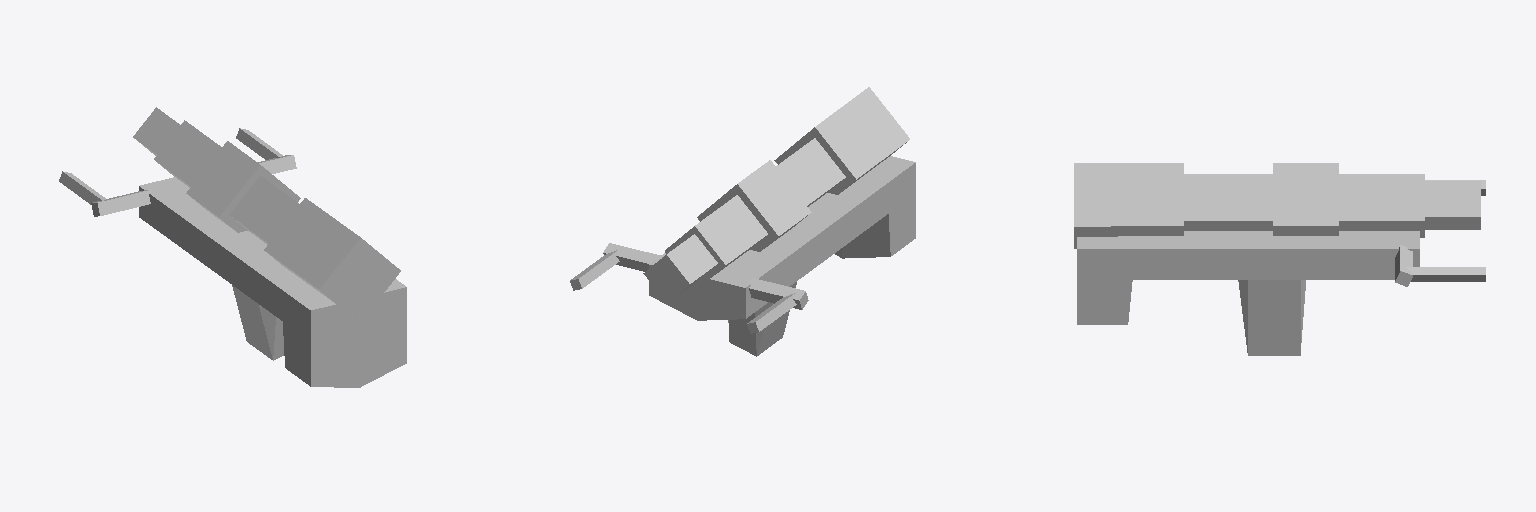
File: thunderbolt.obj
The picture shows the model from 3 angles: view 1: azimuth 30°, elevation 25°; view 2: azimuth 150°, elevation 25°; view 3: azimuth 270°, elevation 25°; orthographic projection.
Parts seen in each view (by area): view 1: Cube.004_Cube.005, Cube.003_Cube.004, Cube.001, Cube.002, Cube, Cube.006_Cube.008, Cube.007_Cube.009, Cube.008_Cube.010; view 2: Cube.004_Cube.005, Cube.001, Cube.003_Cube.004, Cube.002, Cube, Cube.006_Cube.008, Cube.005_Cube.006, Cube.007_Cube.009, Cube.008_Cube.010; view 3: Cube.004_Cube.005, Cube.001, Cube.003_Cube.004, Cube.002, Cube, Cube.008_Cube.010, Cube.005_Cube.006.
Part boxes in pixels (x1,y1,x2,y2): Cube.004_Cube.005: (139,177,406,387); Cube.003_Cube.004: (264,198,400,322); Cube.001: (154,120,299,244); Cube.002: (186,141,300,232); Cube: (133,107,179,155); Cube.006_Cube.008: (91,190,151,216); Cube.007_Cube.009: (59,171,105,204); Cube.008_Cube.010: (236,128,282,159); Cube.004_Cube.005: (649,156,915,356); Cube.001: (665,138,845,289); Cube.003_Cube.004: (774,87,909,194); Cube.002: (697,160,811,251); Cube: (643,234,717,302); Cube.006_Cube.008: (749,278,808,309); Cube.005_Cube.006: (603,243,662,271); Cube.007_Cube.009: (747,293,796,333); Cube.008_Cube.010: (570,250,619,290); Cube.004_Cube.005: (1077,231,1419,355); Cube.001: (1184,174,1424,237); Cube.003_Cube.004: (1074,163,1183,248); Cube.002: (1273,163,1338,235); Cube: (1425,181,1480,229); Cube.008_Cube.010: (1406,267,1485,281); Cube.005_Cube.006: (1395,245,1412,286).
Bounding box in the file's own units: 1.69 × 1.54 × 3.07.